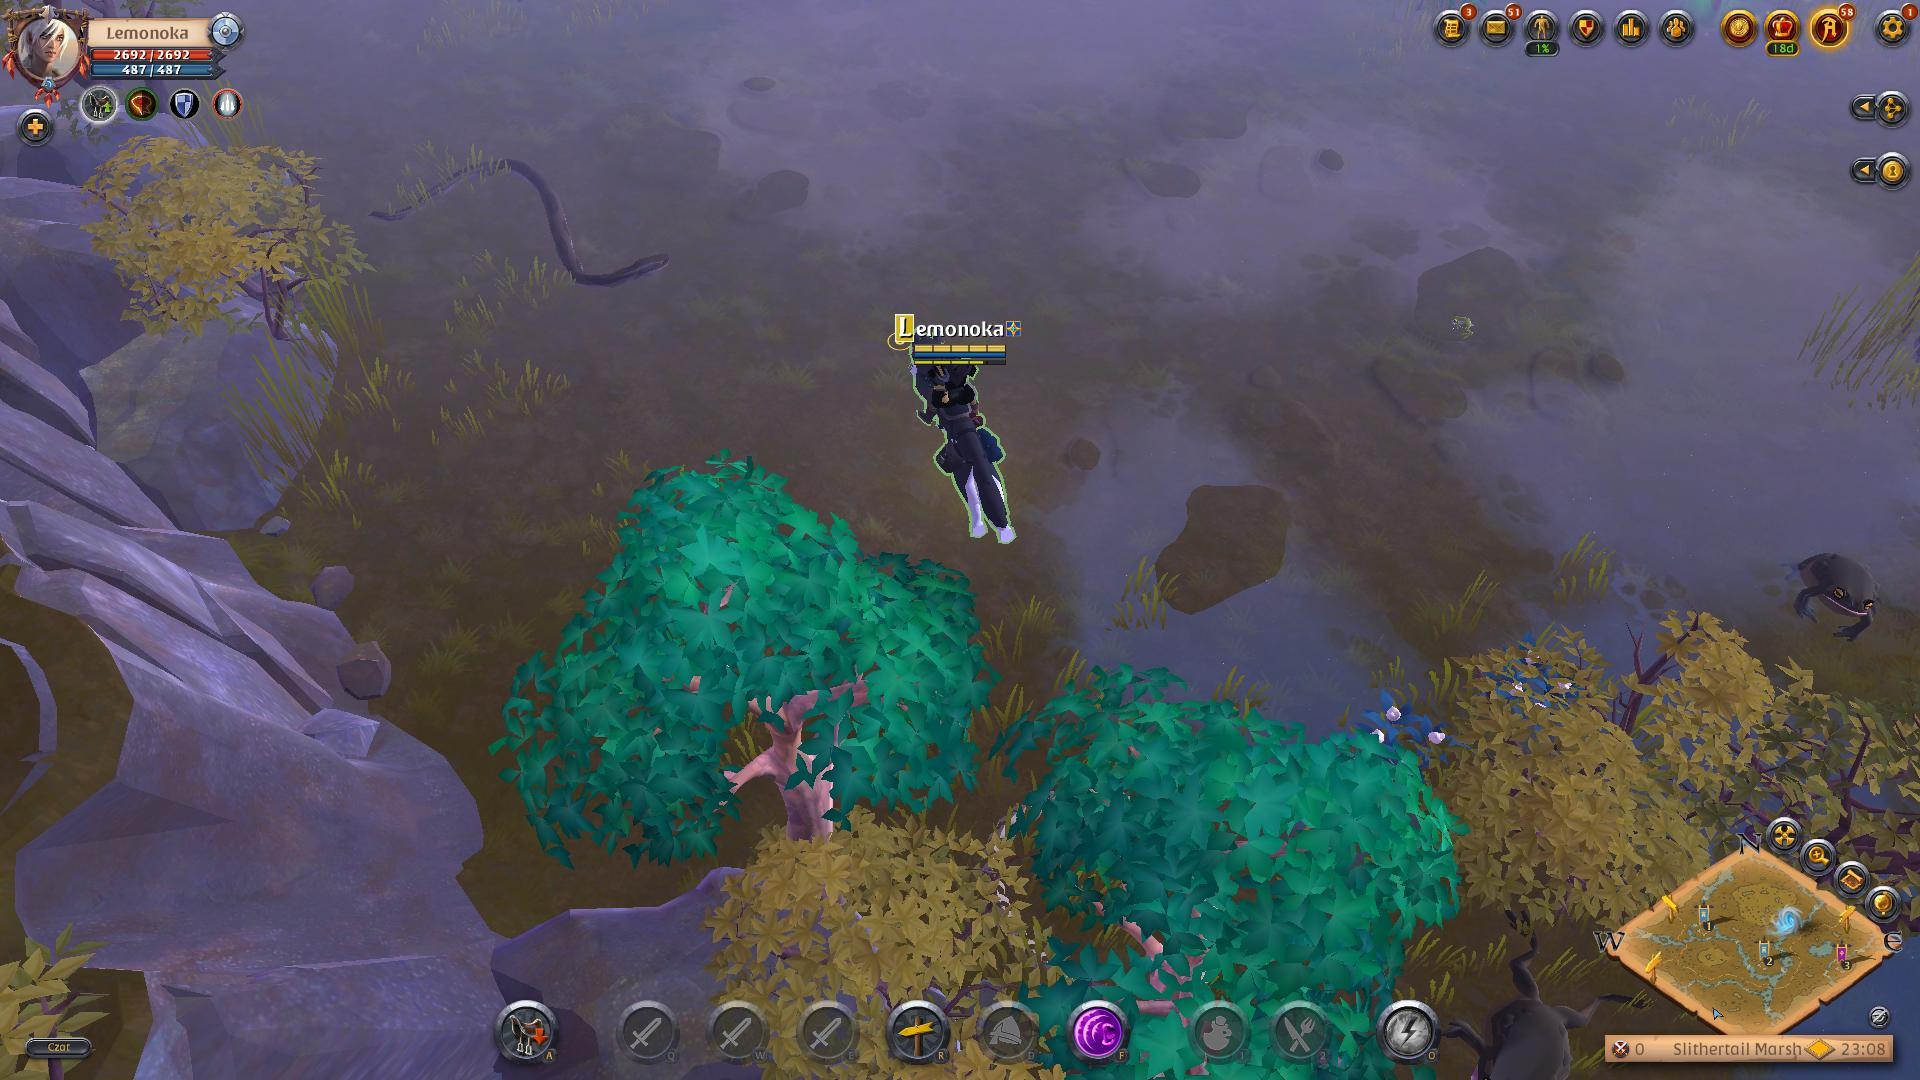wood tier 3: (495, 455, 996, 861)
